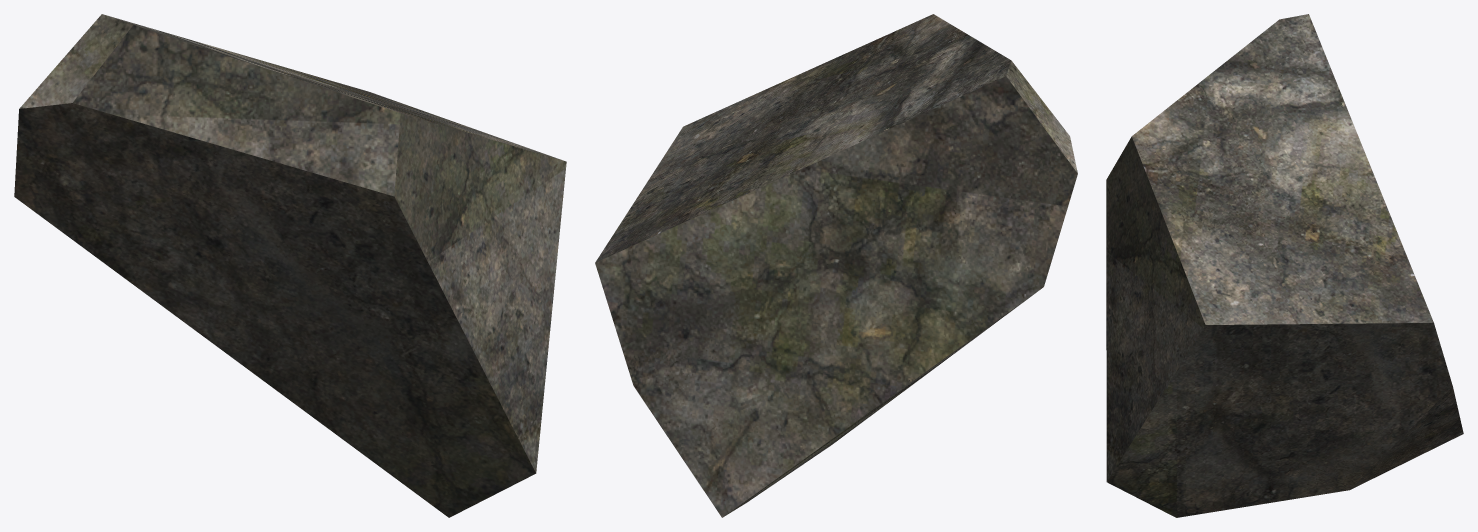
File: ColumnDamage08_45.fbx
3 renders of one model, left to right at view 1: azimuth 30°, elevation 25°; view 2: azimuth 150°, elevation 25°; view 3: azimuth 270°, elevation 25°, orthographic. The views are drawn at different scales.
Parts seen in each view (by area): view 1: ColumnDamage08_DM.045; view 2: ColumnDamage08_DM.045; view 3: ColumnDamage08_DM.045.
Boxes of the visible parts, x1,y1,x2,y2 form: ColumnDamage08_DM.045: (14,14,566,517); ColumnDamage08_DM.045: (595,14,1077,517); ColumnDamage08_DM.045: (1106,14,1463,517).
Size of the model in its own units: 95.85 by 97.14 by 78.3.
Materials: 1 (1 with a texture image).
